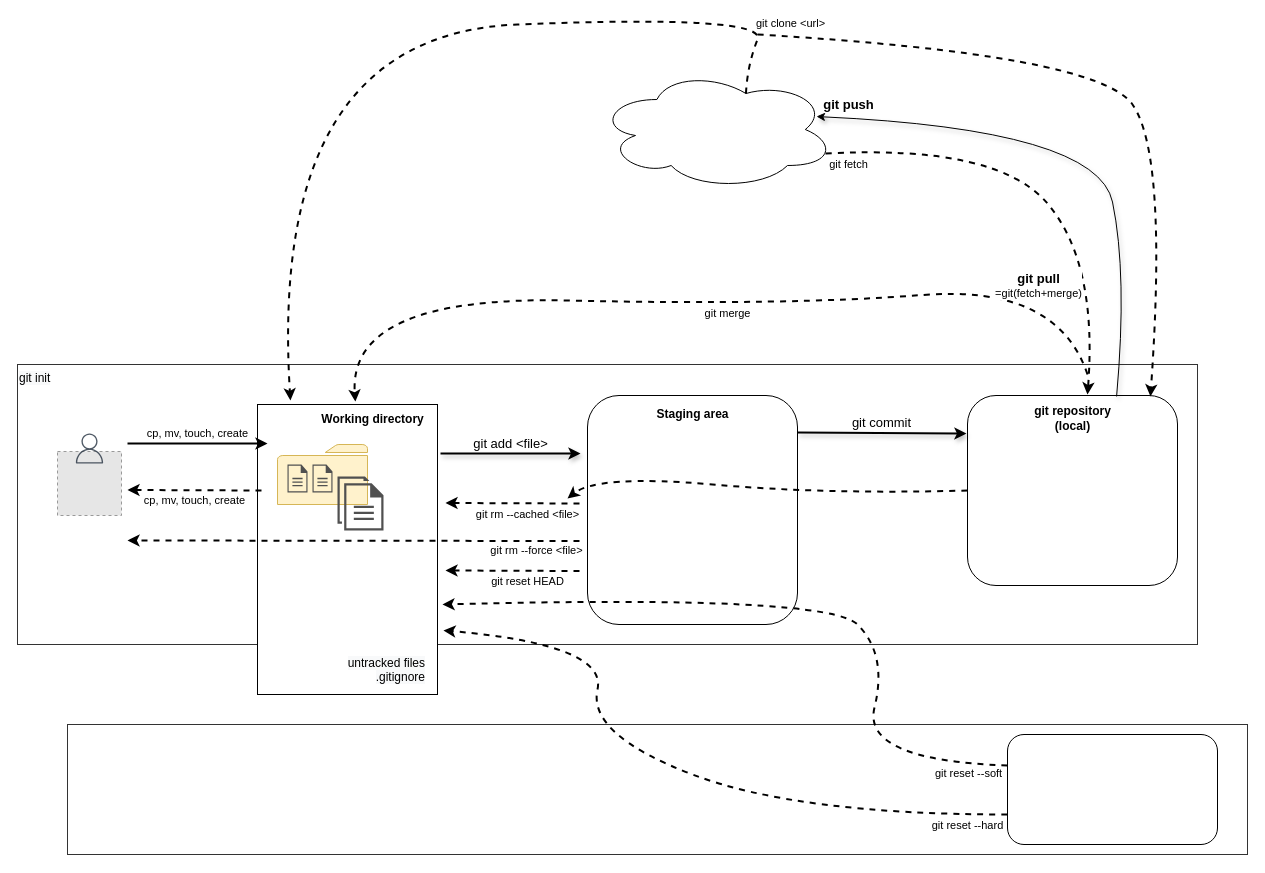
Some shapes in this 1265 by 873 pixel diagram are drawn without their labels. Grey dashed boxes stand in for pictures. The shapes that lost their labels are listed below. From the top down, each one's centre as x and y in pixels, then its label:
[715,129]: Git repository (github, gitlab, bitbucket)
[1112,789]: git repository (historial)
